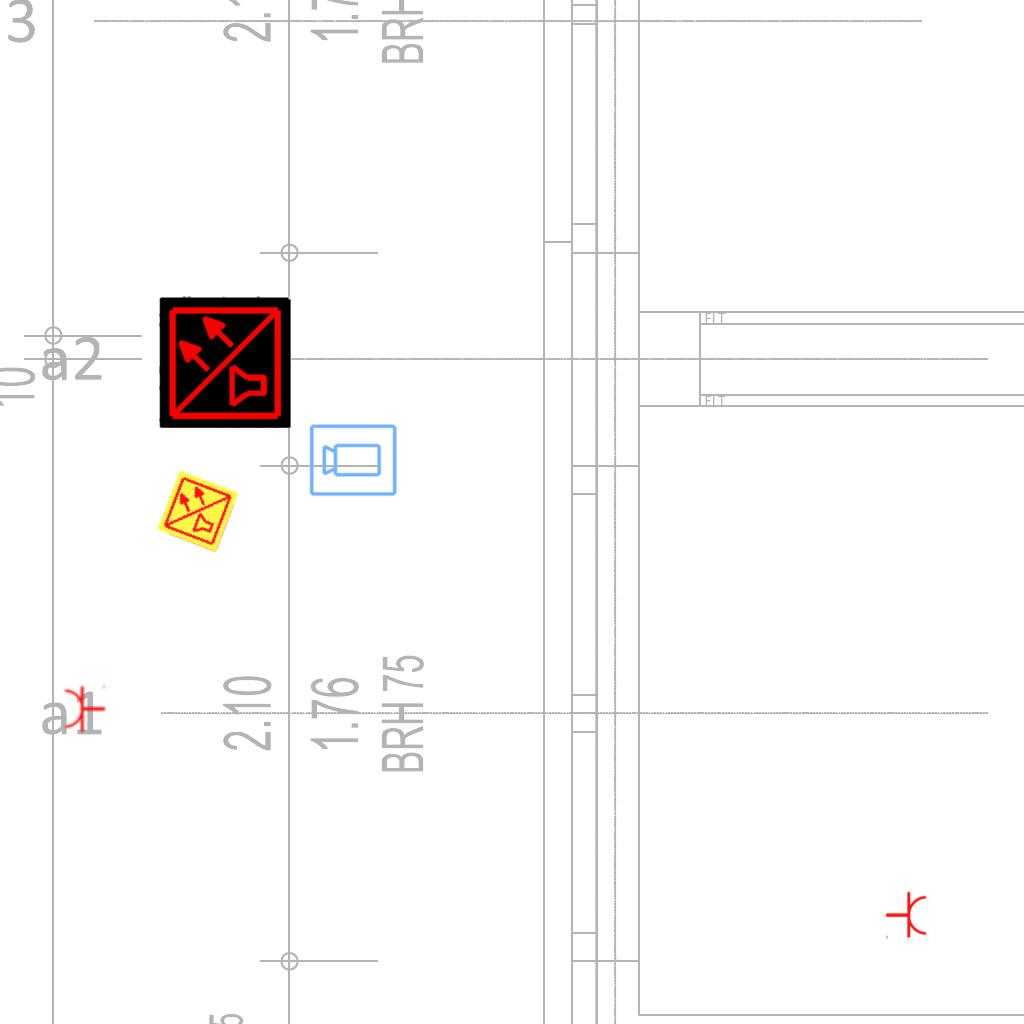KFO_Kamera_mit_Festobjektiv: (308, 421, 399, 498)
OKW_Multisensormelder_(Kombination_optischer_Rauch-Kahlenmonoxid_Waerme-Melder): (159, 296, 291, 428), (155, 468, 241, 554)
Schukosteckdose_einfach: (885, 891, 928, 941), (63, 683, 106, 733)
